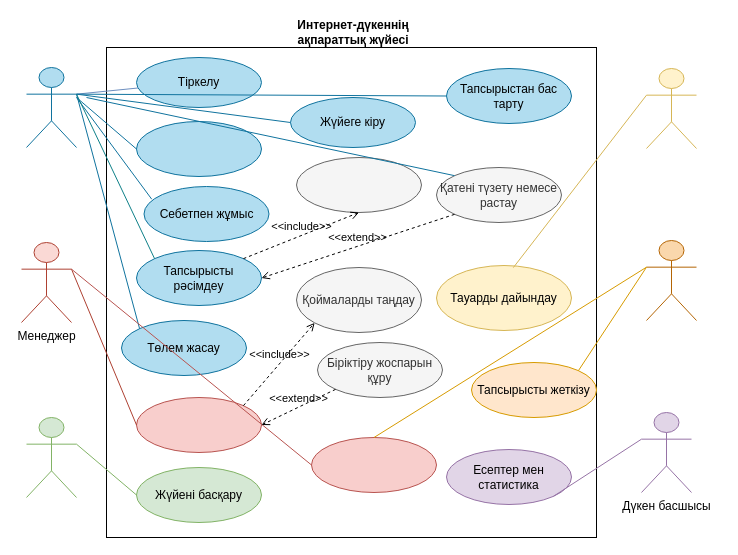
The diagram is 738 pixels wide and 555 high, and some of its shapes have lost their labels. The shapes that lost their labels are listed below. From the top down, each one's centre as x and y in pixels, then its label:
(x=51, y=107): Клиент
(x=671, y=108): Қойма қызметкері
(x=199, y=148): Тауарларды іздеу
(x=359, y=184): Smart Error Check (қатені тексеру)
(x=671, y=280): Курьер
(x=199, y=424): Тапсырысты өңдеу
(x=51, y=457): Әкімші
(x=373, y=464): Мәртебені жаңарту
